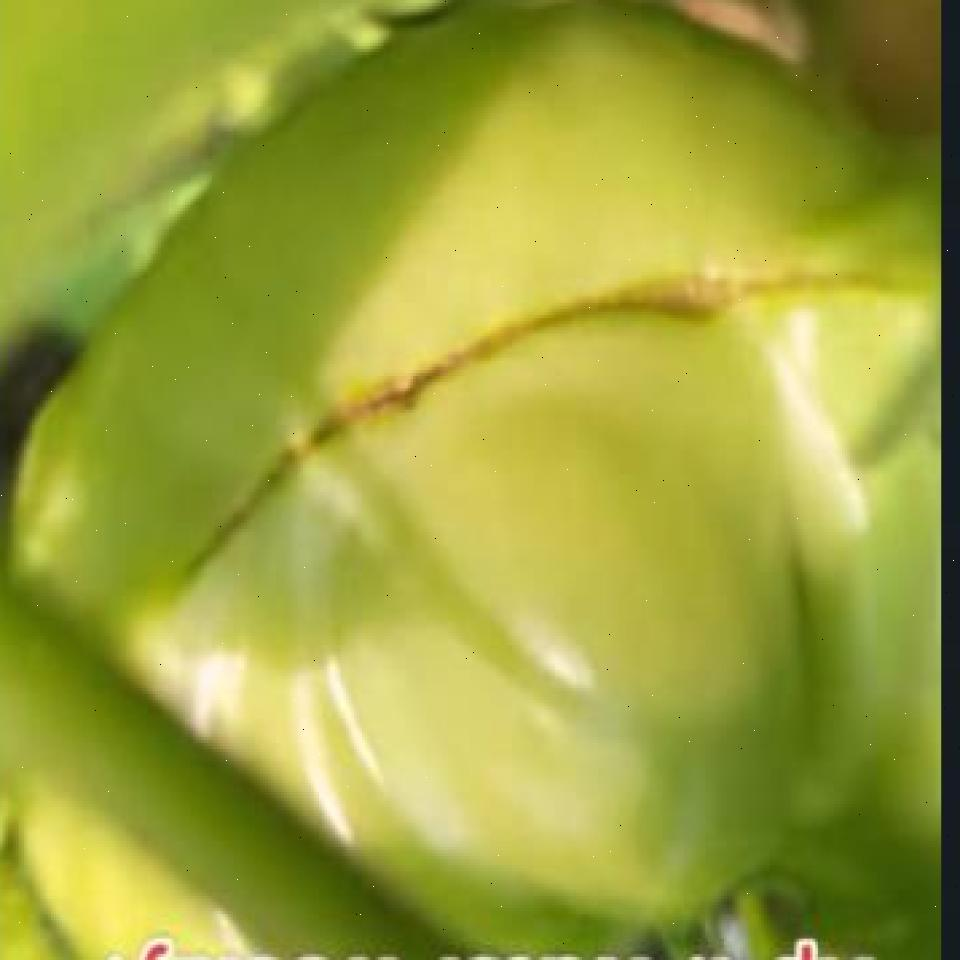Cracking: (146, 178, 948, 658)
